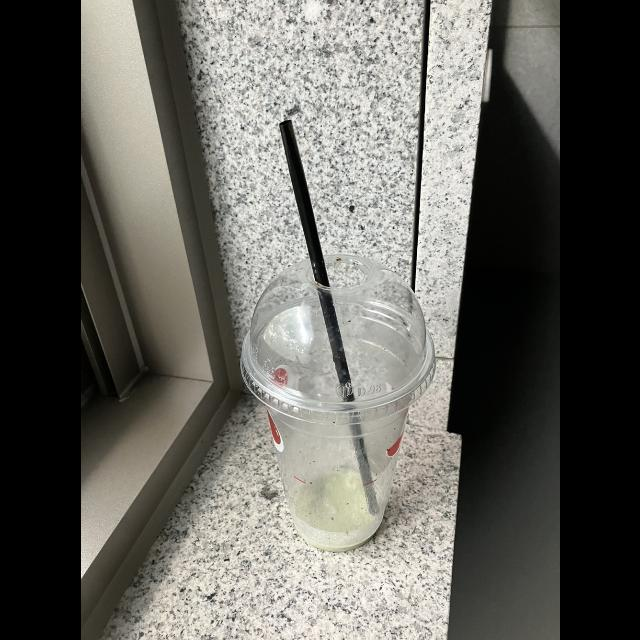plastic_cup: (236, 247, 436, 573)
plastic_cup_lid: (239, 255, 439, 430)
straw: (276, 116, 386, 515)
